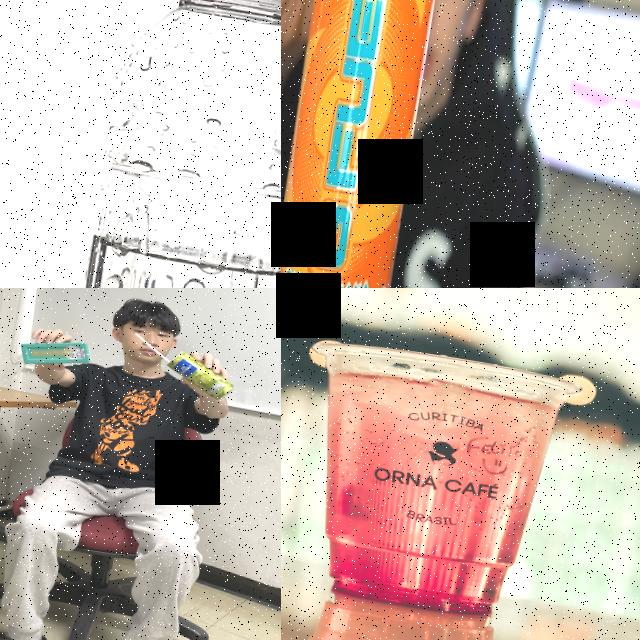bottle: (38, 0, 281, 288)
can: (281, 0, 461, 288), (161, 350, 241, 404)
cup: (281, 335, 589, 629)
